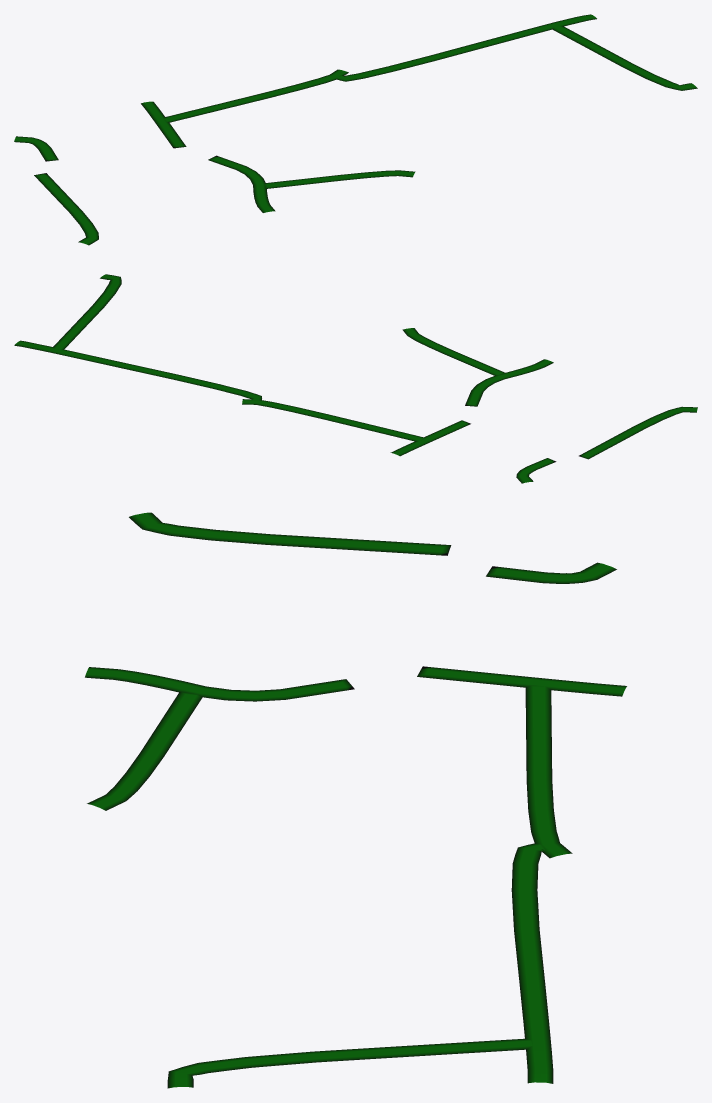
The model's file is SM_FishersCove_Paths_NoCol.fbx.
3 views of the same model, one above another, from view 1: azimuth 30°, elevation 25°; view 2: azimuth 150°, elevation 25°; view 3: azimuth 270°, elevation 25° (orthographic). The views are drawn at different scales.
Visible parts, largest first — view 1: SM_FishersCove_Paths_NoCol; view 2: SM_FishersCove_Paths_NoCol; view 3: SM_FishersCove_Paths_NoCol.
Boxes of the visible parts, x1,y1,x2,y2 form: SM_FishersCove_Paths_NoCol: (14, 14, 697, 245); SM_FishersCove_Paths_NoCol: (14, 274, 697, 483); SM_FishersCove_Paths_NoCol: (85, 512, 626, 1088).
Size of the model in its own units: 68.55 by 0.2357 by 27.45.
